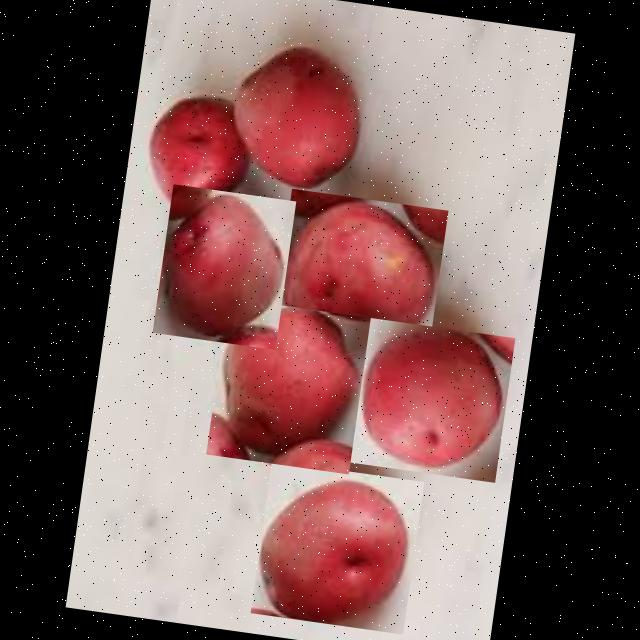Defected potato: (271, 188, 449, 360), (250, 460, 424, 634), (206, 297, 371, 474), (350, 317, 516, 482), (220, 31, 374, 196), (152, 183, 296, 349), (138, 81, 260, 216)
